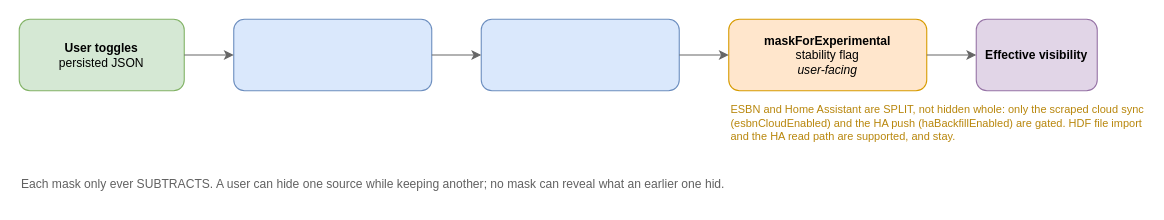
This 1164x220 diagram has some shape labels left out. The shapes that lost their labels are listed below. From the top down, each one's box as (x1, y1, x2, y2) in pixels, then its label:
(233, 18, 432, 91): maskForRegion edition: ie / gb / source build-time
(480, 18, 679, 91): maskForProfile PROFILE: FULL / SOURCE build-time
